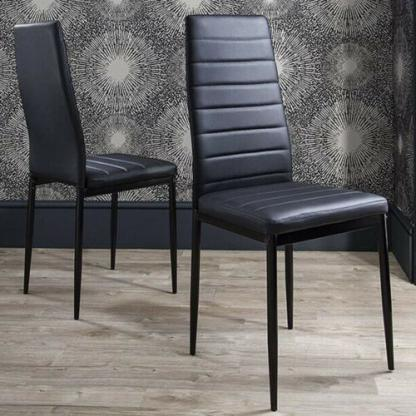chair: (177, 0, 400, 416), (3, 5, 177, 339)
